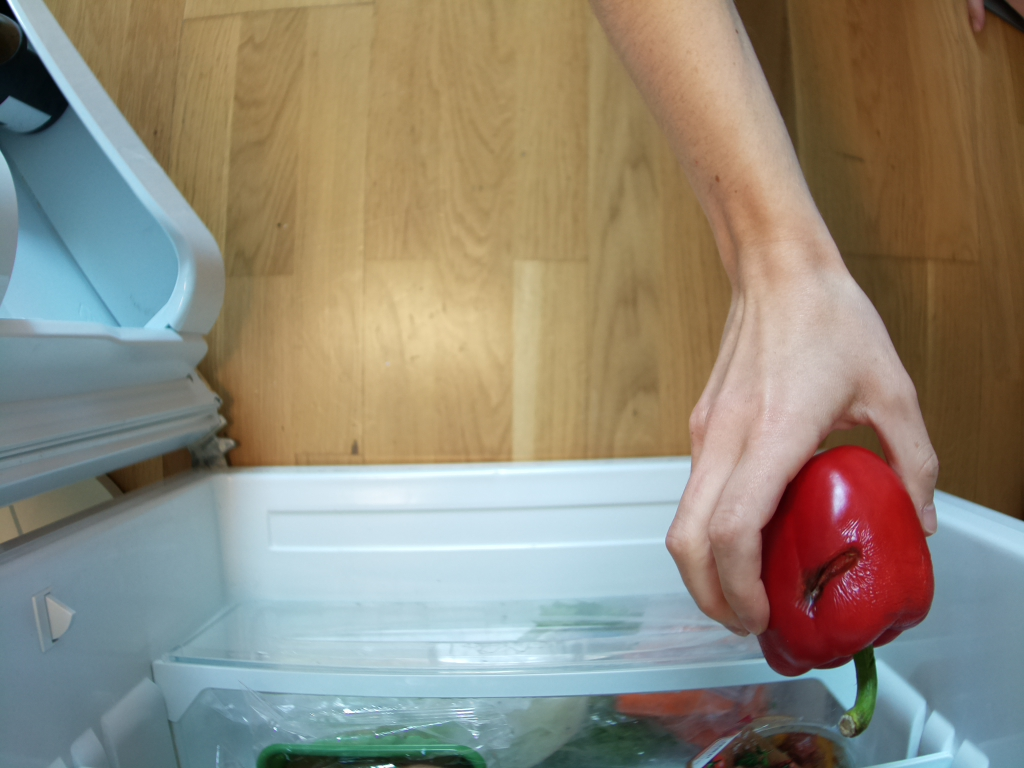pepper-bad: (750, 446, 941, 742)
